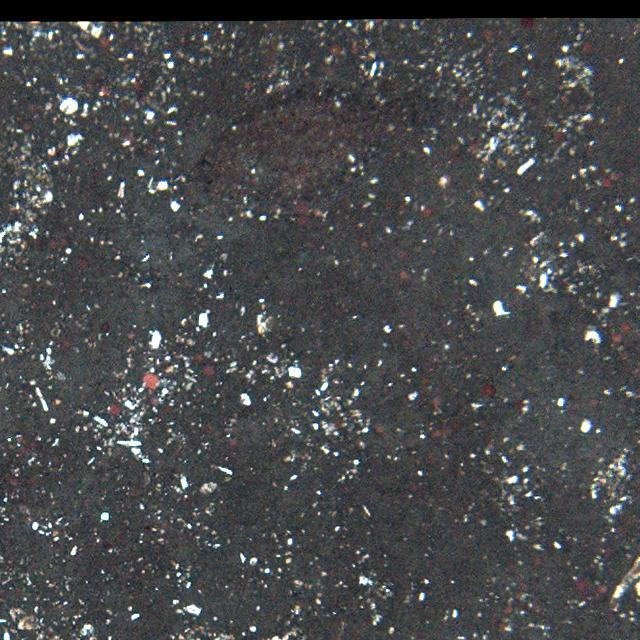flatfish: (195, 74, 435, 212)
